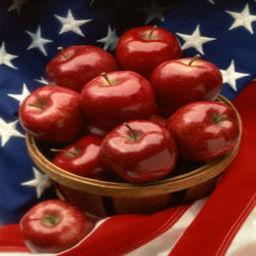apple: (99, 122, 180, 182), (148, 55, 222, 115), (168, 101, 239, 159), (81, 71, 156, 124), (18, 86, 85, 139), (21, 199, 88, 245), (47, 44, 117, 88), (116, 25, 181, 71), (52, 135, 103, 177)
